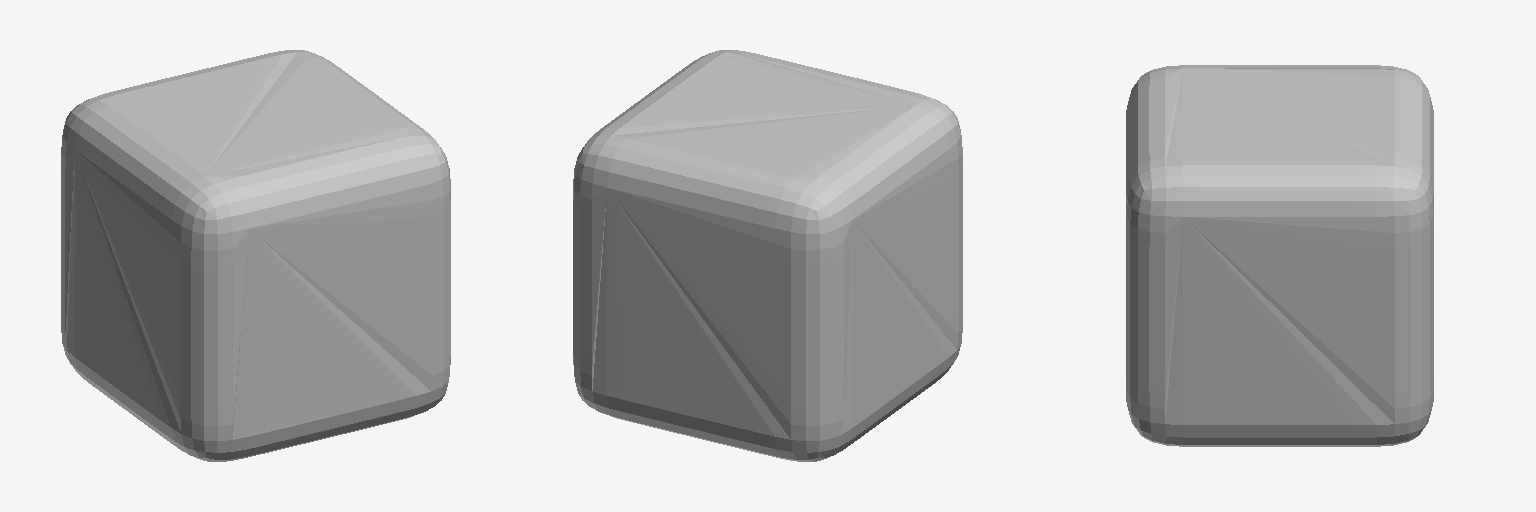
Rendered from Rounded Cube.obj.
3 views of the same model, side by side, from view 1: azimuth 30°, elevation 25°; view 2: azimuth 150°, elevation 25°; view 3: azimuth 270°, elevation 25° (orthographic).
Visible parts, largest first — view 1: Cube; view 2: Cube; view 3: Cube.
Boxes of the visible parts, x1=… form: Cube: x1=61, y1=50, x2=450, y2=461; Cube: x1=573, y1=50, x2=962, y2=461; Cube: x1=1126, y1=65, x2=1433, y2=446.
Bounding box in the file's own units: 1.98 × 1.98 × 1.98.